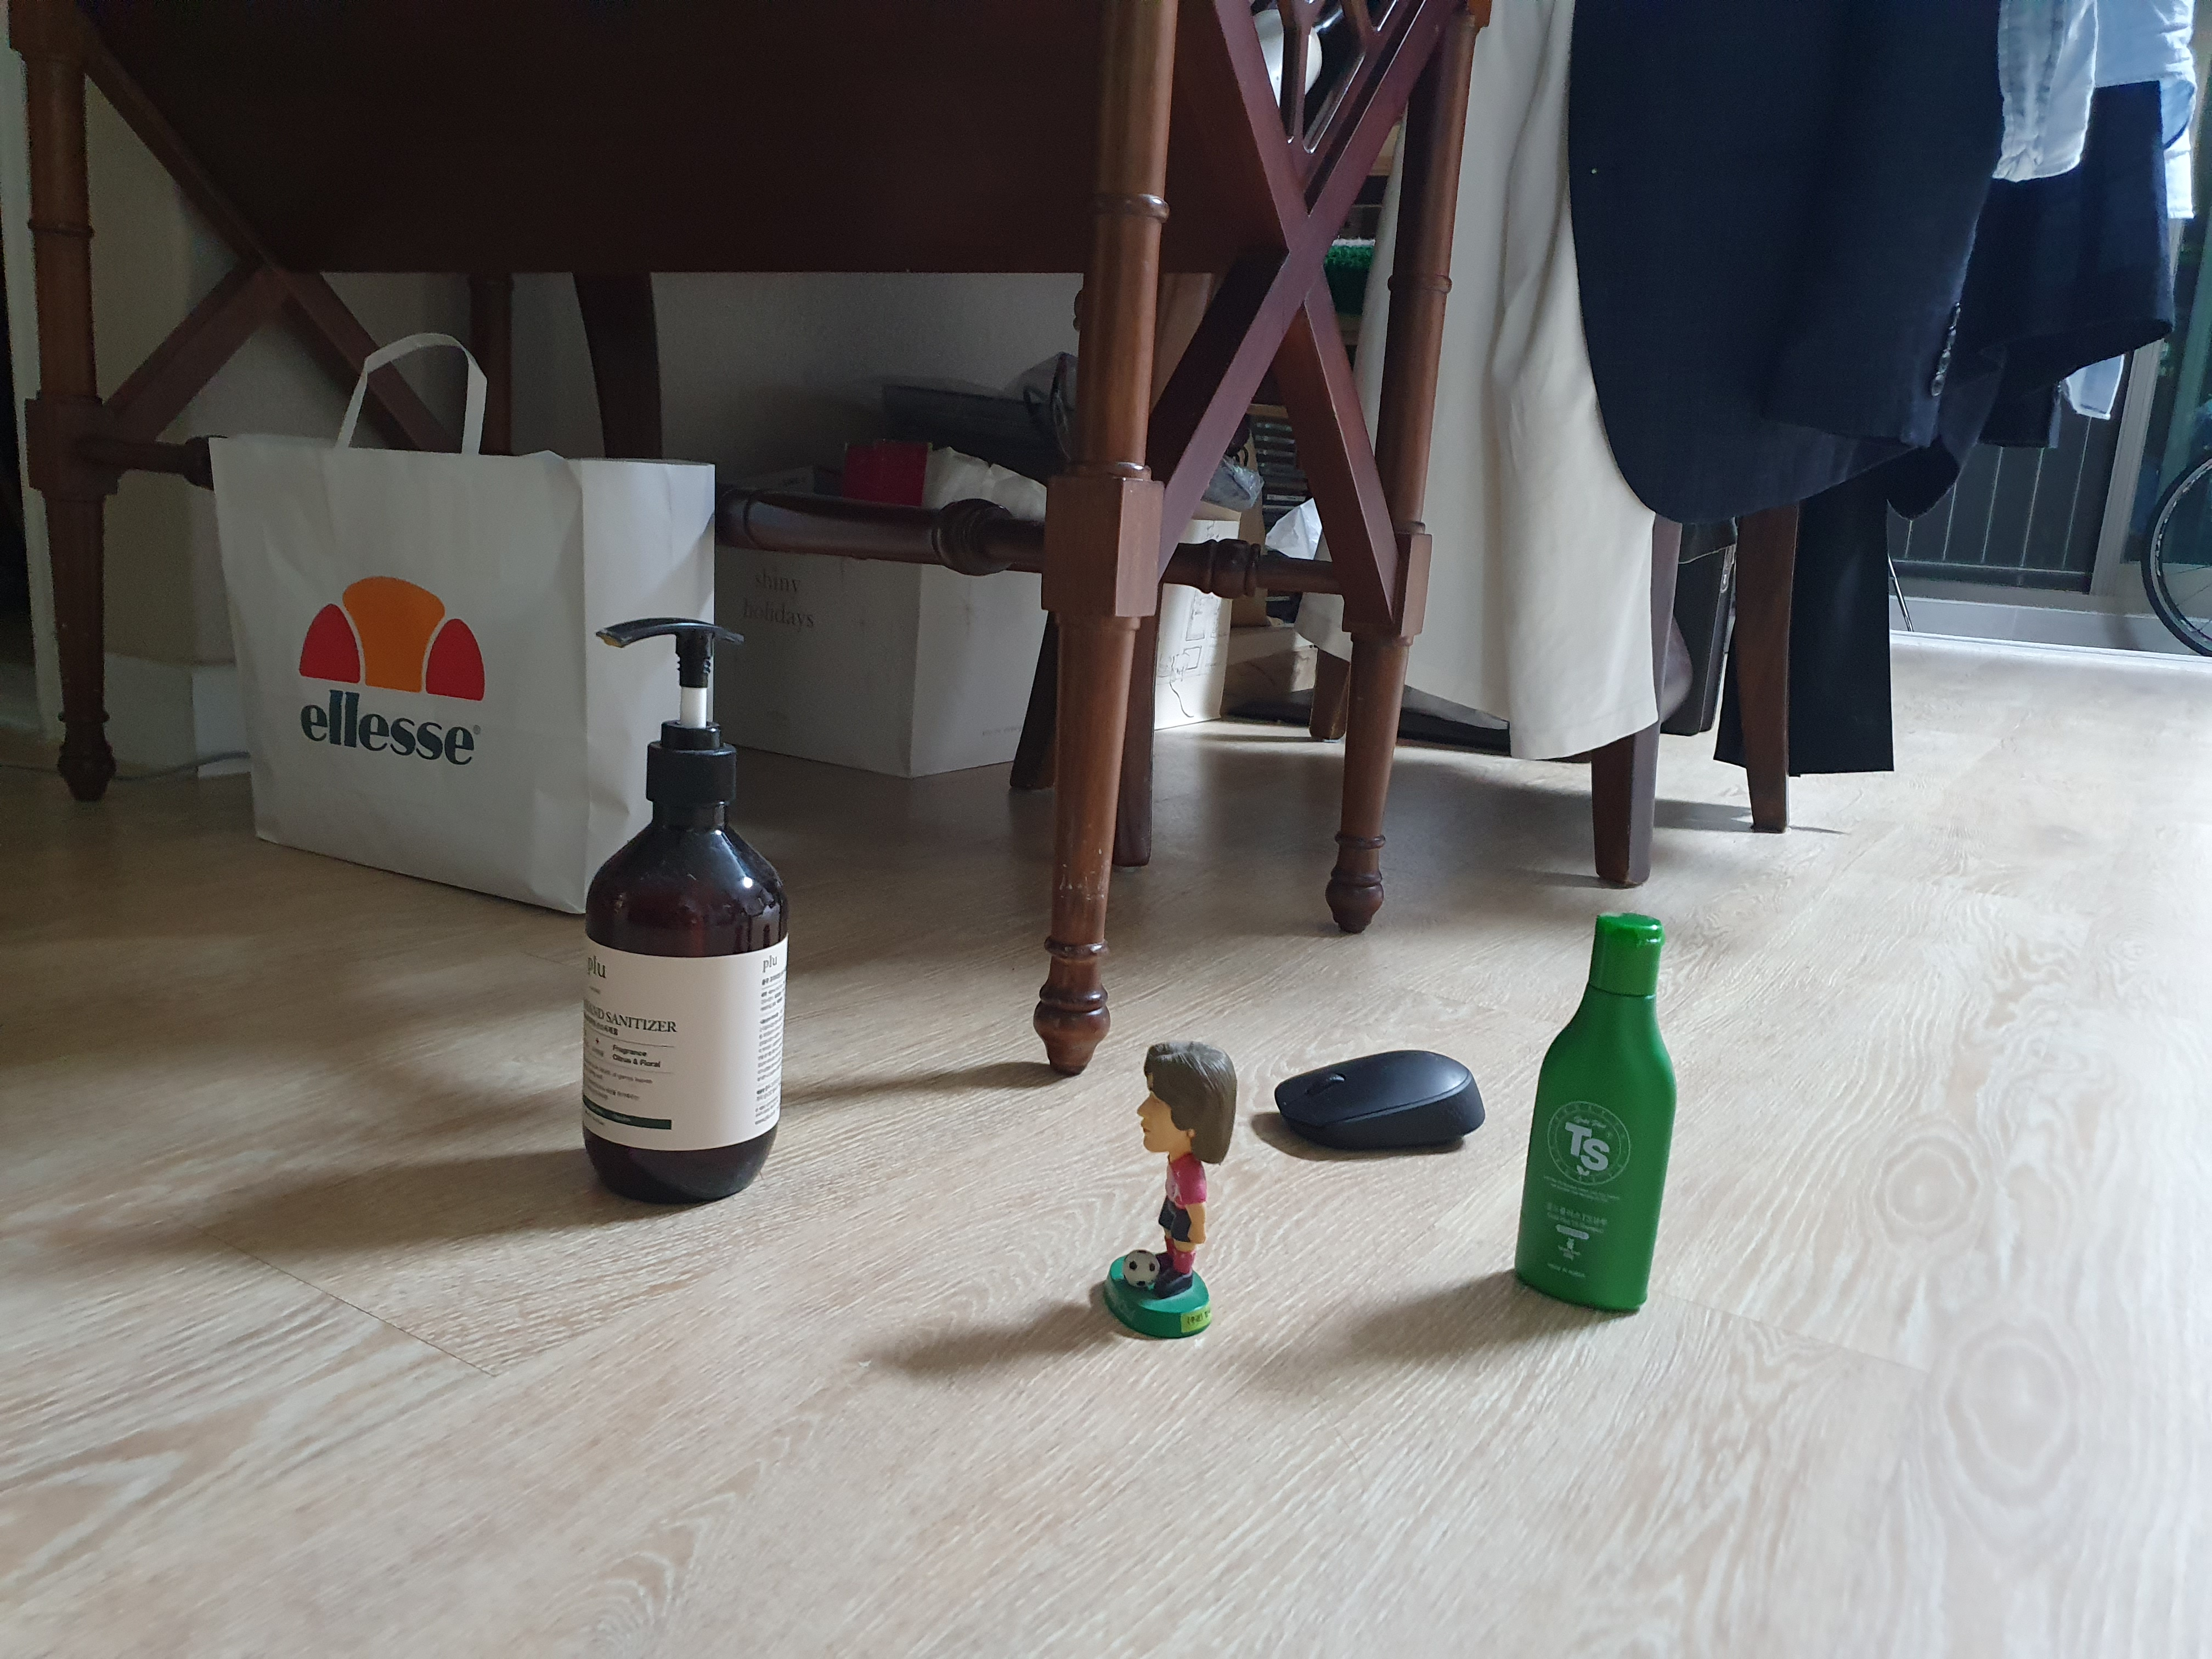bottle: (510, 598, 829, 1216)
mouse: (1254, 993, 1508, 1197)
shampoo: (1522, 878, 1709, 1408)
yoo: (1087, 1021, 1245, 1387)
